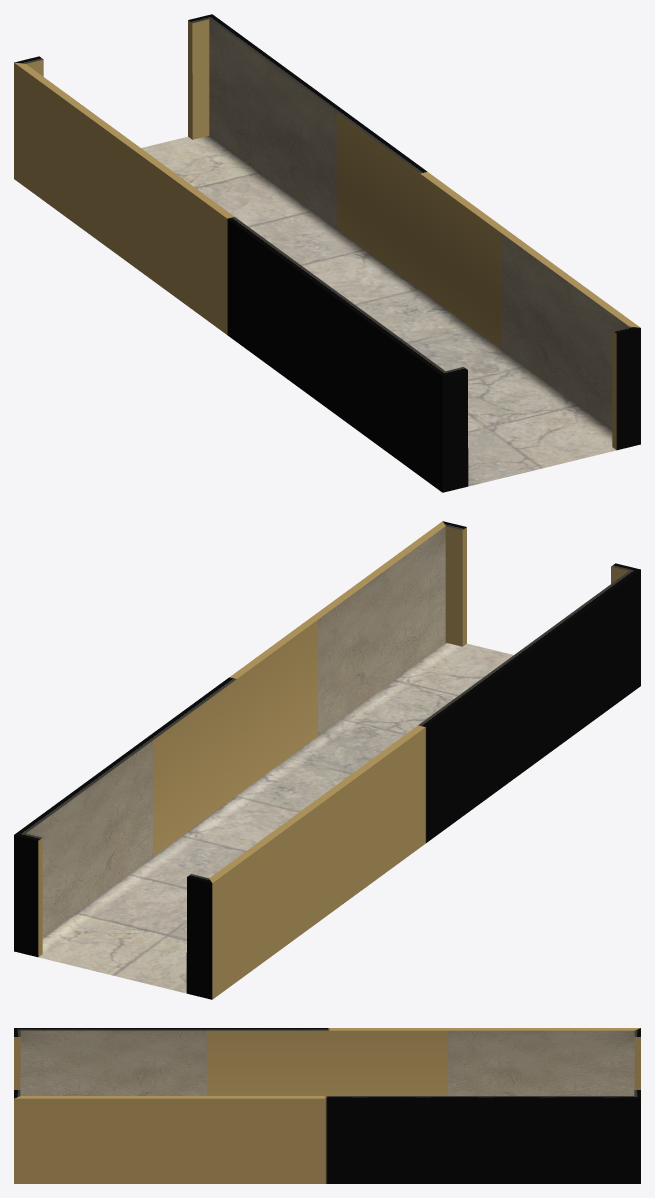
File: Room_1Exit02_Type02.fbx
3 views of the same model, one above another, from view 1: azimuth 30°, elevation 25°; view 2: azimuth 150°, elevation 25°; view 3: azimuth 270°, elevation 25° (orthographic). The views are drawn at different scales.
Parts seen in each view (by area): view 1: Hall_Straight; view 2: Hall_Straight; view 3: Hall_Straight.
Part boxes in pixels (<box>): Hall_Straight: <box>14,14,640,492</box>; Hall_Straight: <box>14,521,640,999</box>; Hall_Straight: <box>14,1028,640,1183</box>.
Size of the model in its own units: 2.67 by 1.5 by 10.
